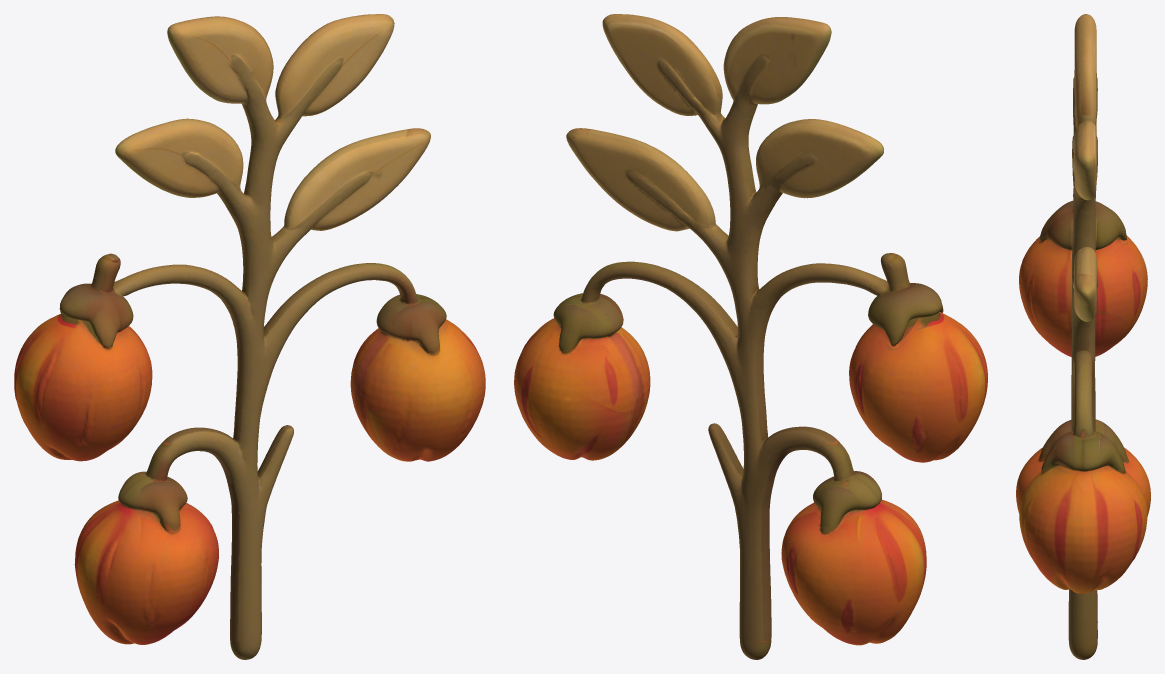
Rendered from tomato_getting_dry.glb.
3 views of the same model, side by side, from view 1: azimuth 30°, elevation 25°; view 2: azimuth 150°, elevation 25°; view 3: azimuth 270°, elevation 25° (orthographic). The views are drawn at different scales.
Bounding box in the file's own units: 1.46 × 2 × 0.3987.
Materials: 1 (1 with a texture image).
